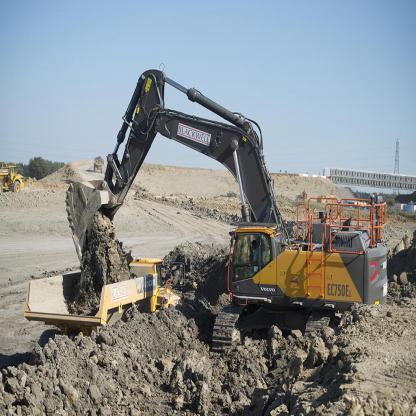dump_truck: (17, 247, 192, 364)
excavator: (60, 65, 389, 356)
